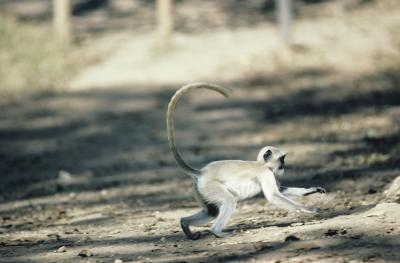monkey: (165, 77, 300, 243)
